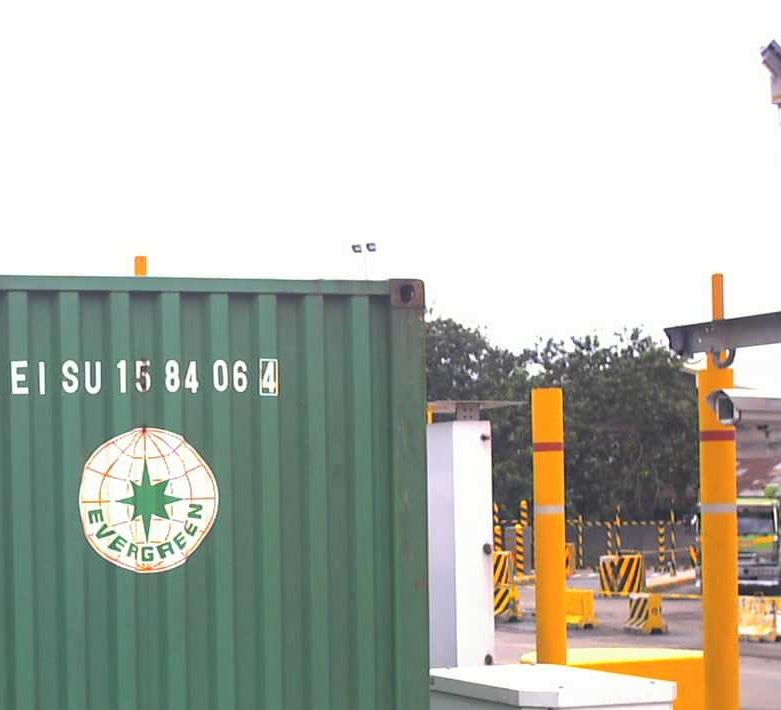container_no_door: (1, 278, 428, 705)
